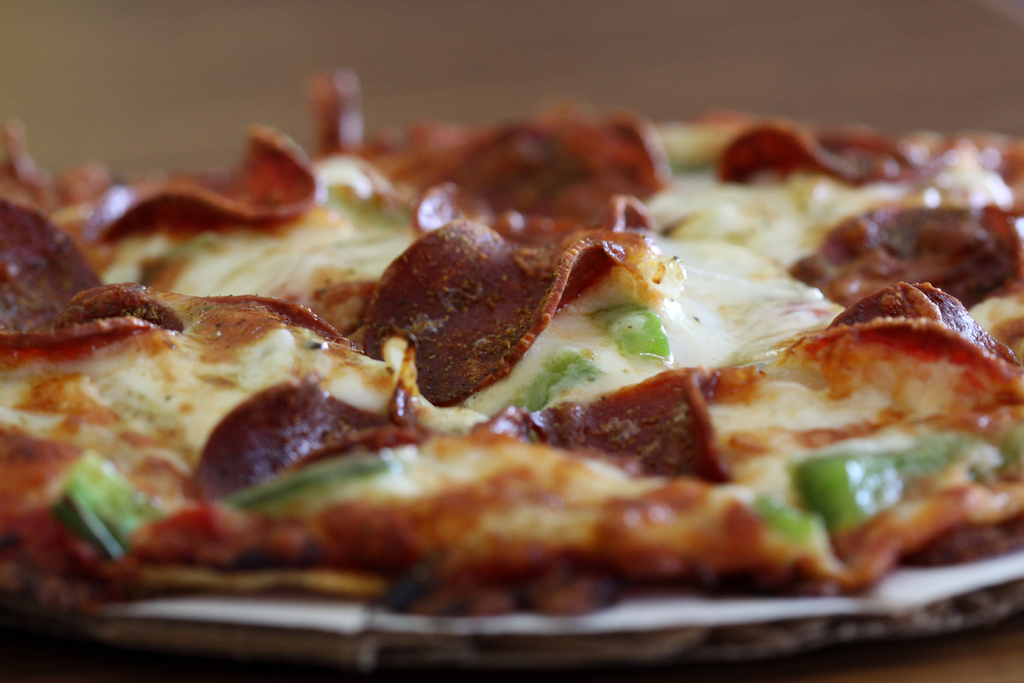Pizza: (0, 35, 1024, 636)
